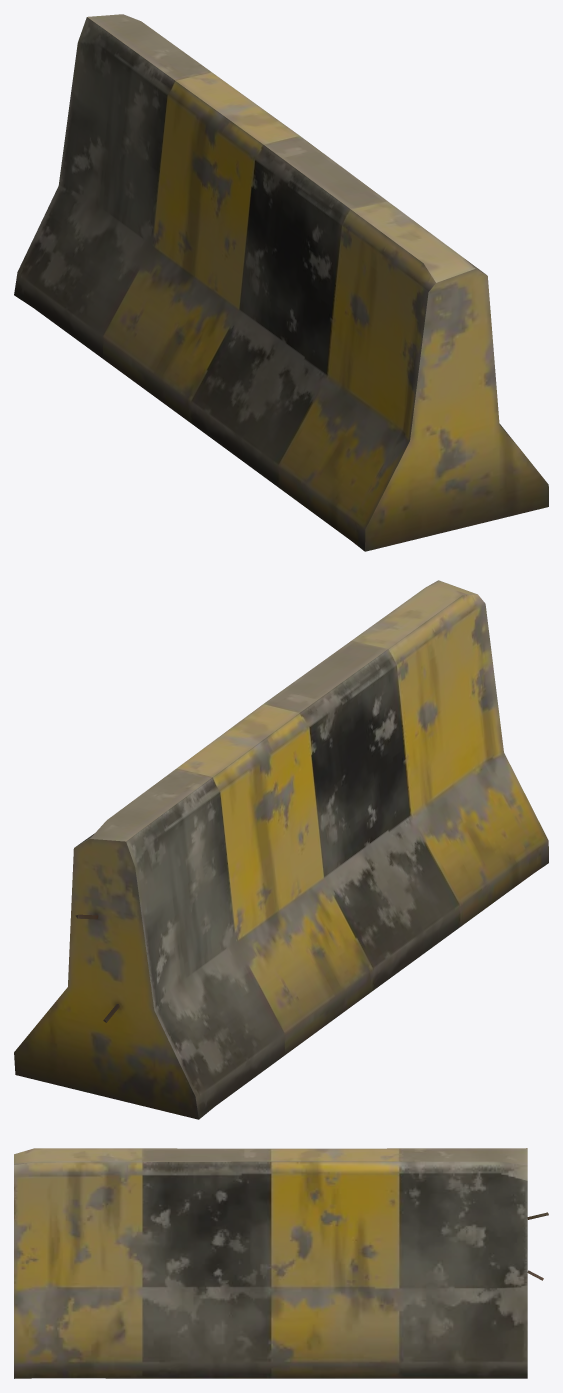
Rendered from road_divider.glb.
3 renders of one model, top to bottom at view 1: azimuth 30°, elevation 25°; view 2: azimuth 150°, elevation 25°; view 3: azimuth 270°, elevation 25°, orthographic. The views are drawn at different scales.
Visible parts, largest first — view 1: body; view 2: body; view 3: body.
Part boxes in pixels (x1=…): body: x1=14, y1=14, x2=548, y2=551; body: x1=14, y1=580, x2=548, y2=1119; body: x1=14, y1=1148, x2=548, y2=1378.
Bounding box in the file's own units: 0.6093 × 0.82 × 2.08.
Materials: 1 (1 with a texture image).
